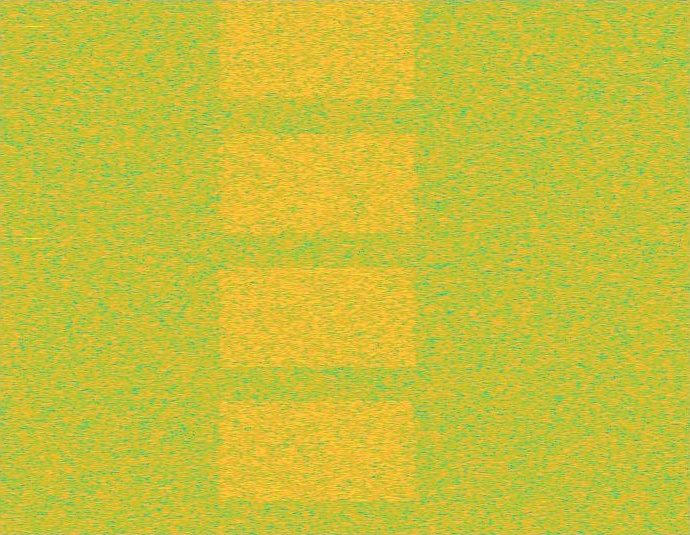5G: (214, 0, 421, 534)
Radar: (26, 0, 40, 534)
